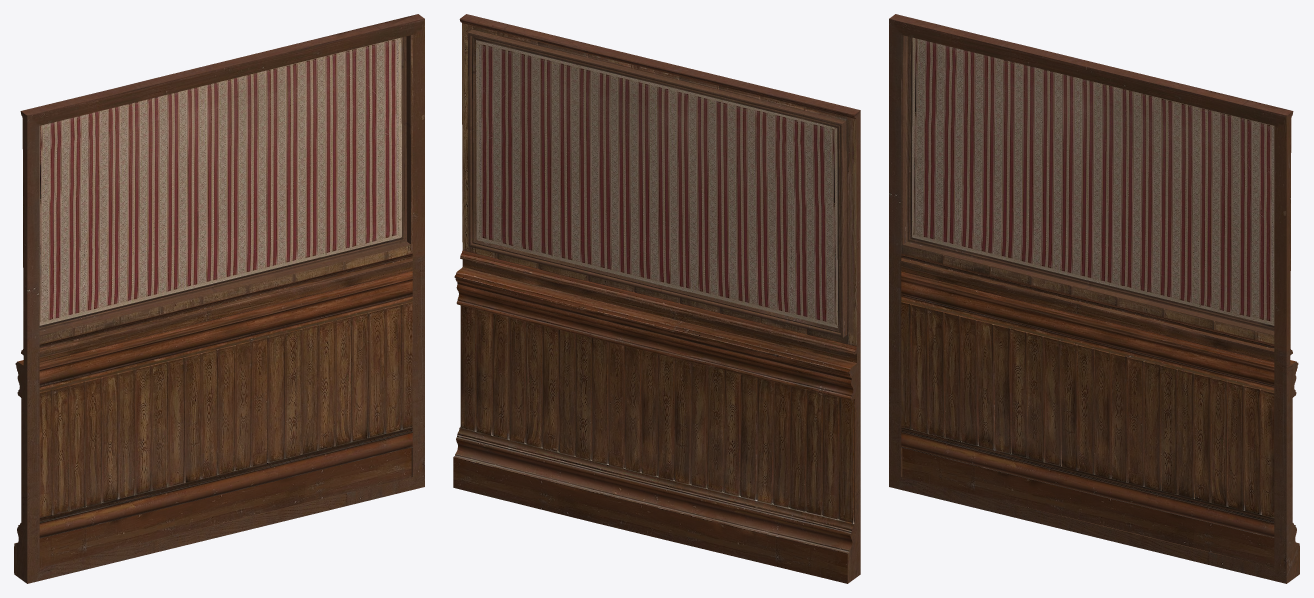
File: panel-wood-wall.glb
3 views of the same model, side by side, from view 1: azimuth 30°, elevation 25°; view 2: azimuth 150°, elevation 25°; view 3: azimuth 330°, elevation 25° (orthographic).
Parts seen in each view (by area): view 1: panel-wood-wall; view 2: panel-wood-wall; view 3: panel-wood-wall.
Boxes of the visible parts, box(x1,y1,x2,y2) form: panel-wood-wall: box(14, 14, 424, 583); panel-wood-wall: box(453, 14, 860, 583); panel-wood-wall: box(889, 14, 1299, 583).
Size of the model in its own units: 2 by 2.25 by 0.1199.
1 material, 1 textured.
